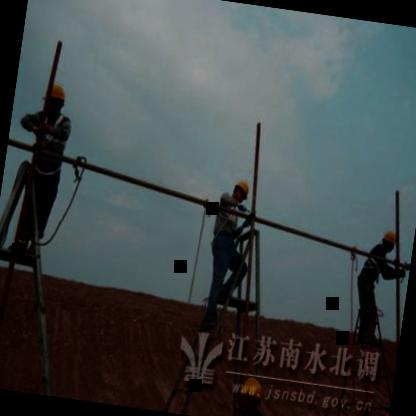helmet: (233, 374, 263, 416), (39, 80, 67, 118), (231, 178, 251, 202), (380, 227, 398, 252), (378, 408, 389, 416)
